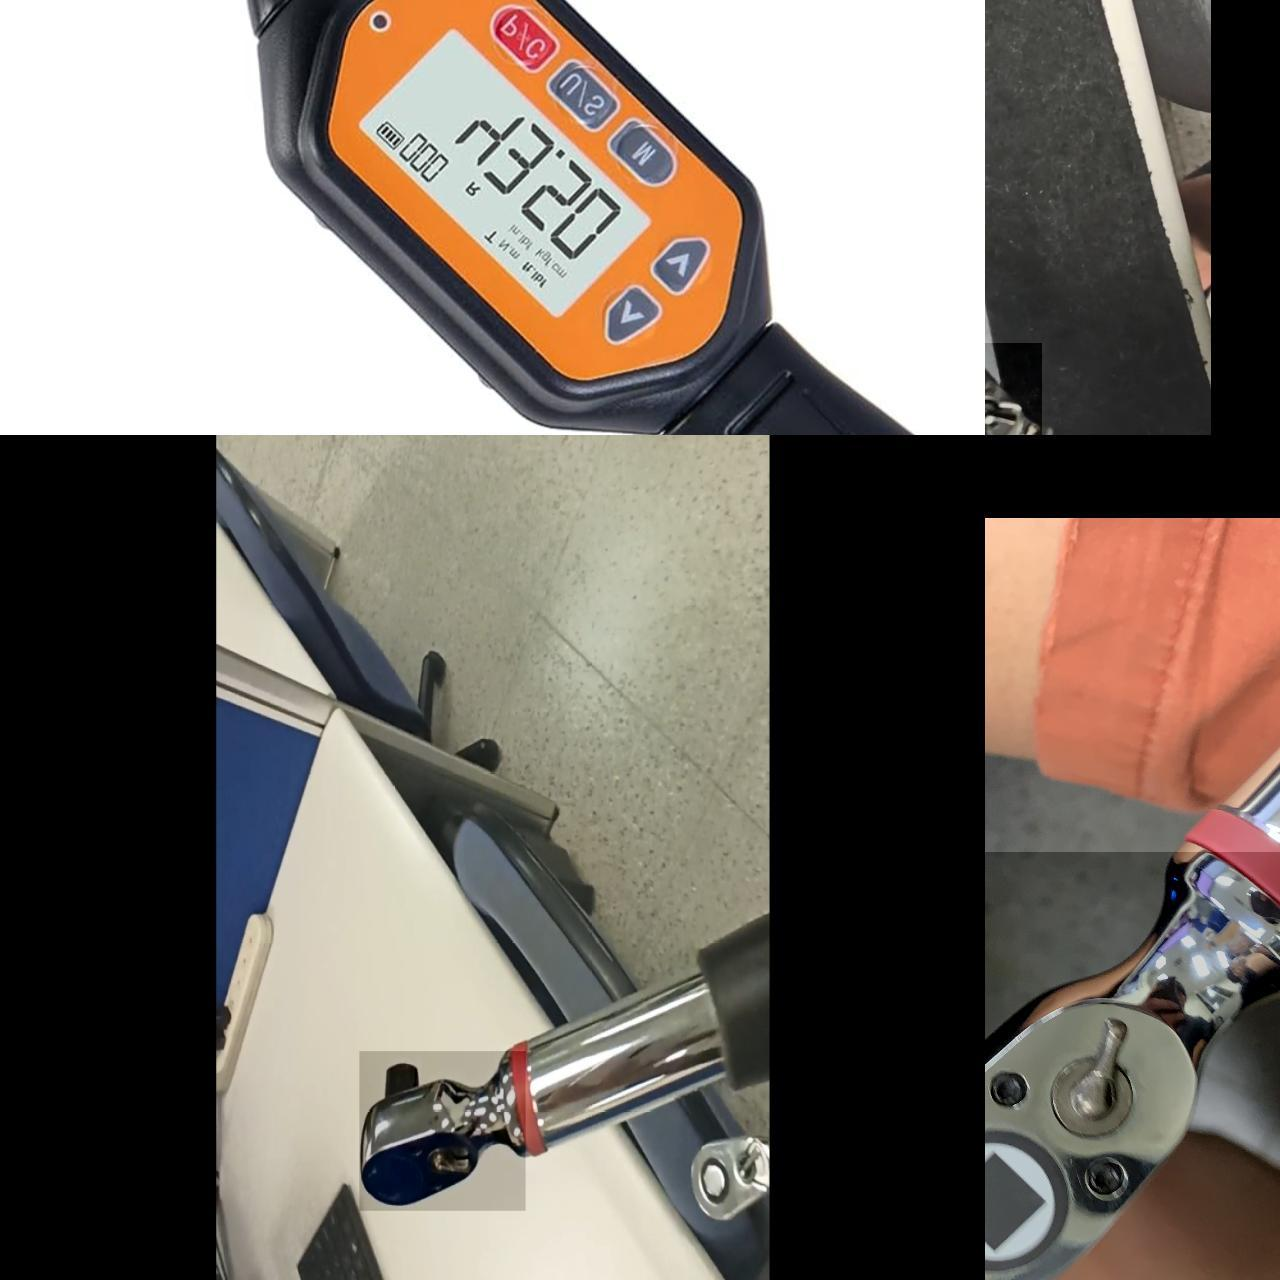Tool: (985, 852, 1280, 1280), (359, 1051, 524, 1211), (688, 1139, 769, 1221), (985, 343, 1041, 435)
